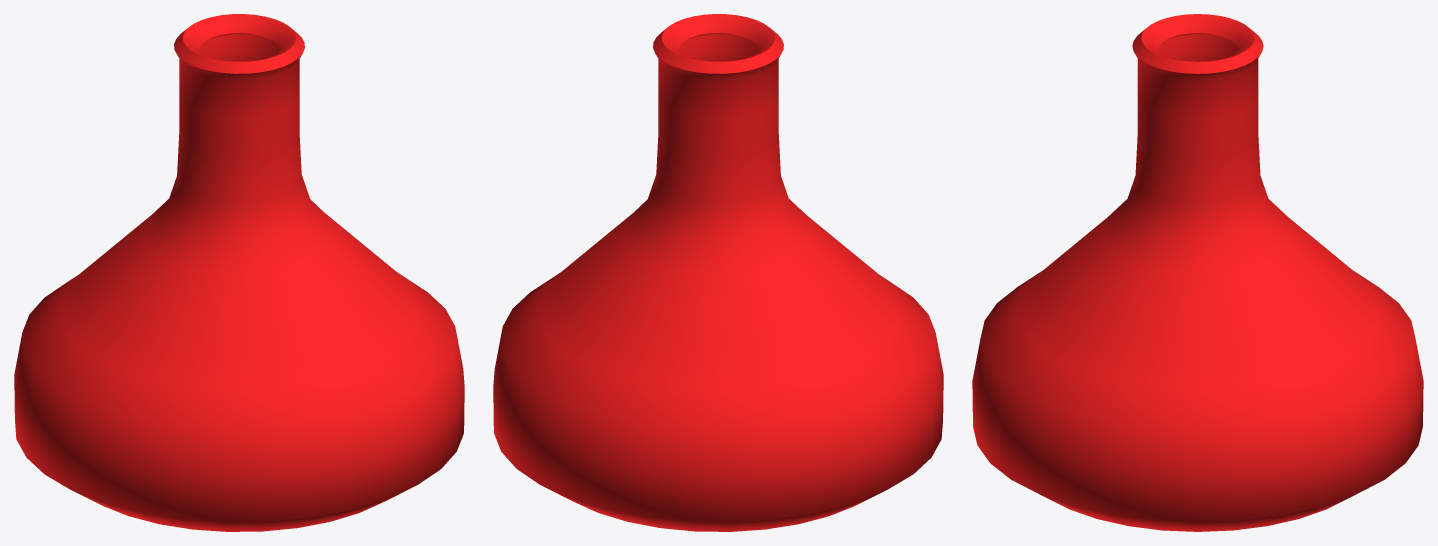
Rendered from static.glb.
3 renders of one model, left to right at view 1: azimuth 30°, elevation 25°; view 2: azimuth 150°, elevation 25°; view 3: azimuth 270°, elevation 25°, orthographic.
Visible parts, largest first — view 1: Lathe_3; view 2: Lathe_3; view 3: Lathe_3.
Part boxes in pixels (bbox=[...]): Lathe_3: bbox=[14, 14, 464, 531]; Lathe_3: bbox=[493, 14, 943, 531]; Lathe_3: bbox=[972, 14, 1423, 531].
Size of the model in its own units: 0.6938 by 0.7088 by 0.6938.
Materials: 2 (2 with a texture image).
